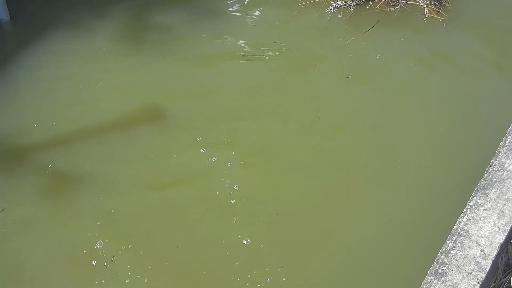twig: (410, 0, 458, 25), (327, 0, 410, 13)
